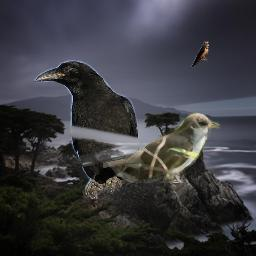Crow: (34, 60, 142, 199)
Cuckoo: (103, 112, 220, 183)
Swallow: (191, 41, 209, 68)
